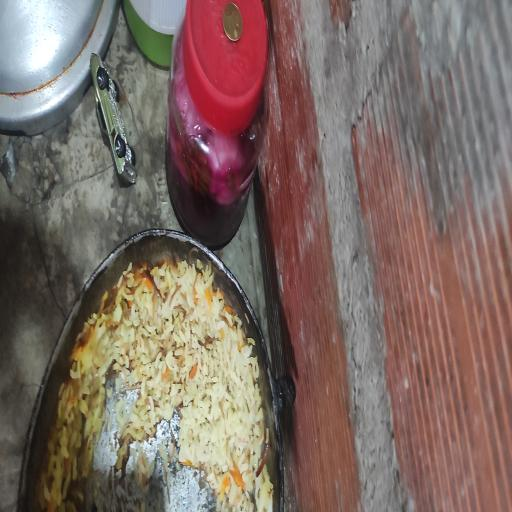Carrito: (90, 53, 136, 184)
